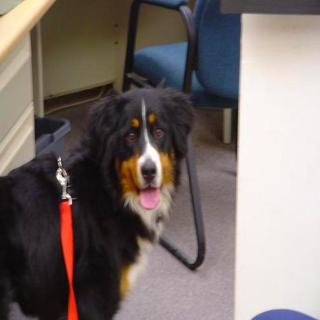dog: (94, 89, 188, 234)
nose: (139, 160, 159, 181)
